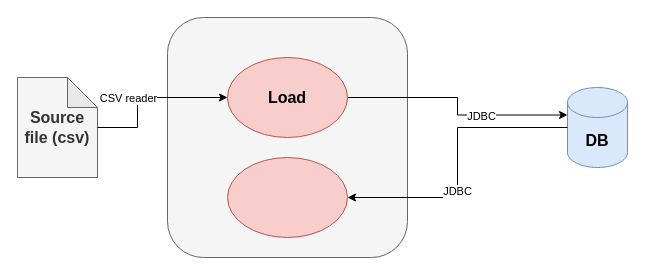
The diagram is 645 pixels wide and 275 high, and some of its shapes have lost their labels. The box of each missing label's shape, as (x1, y1, x2, y2) in pixels:
Retrieve: (226, 156, 348, 238)
Spark: (166, 16, 408, 258)
